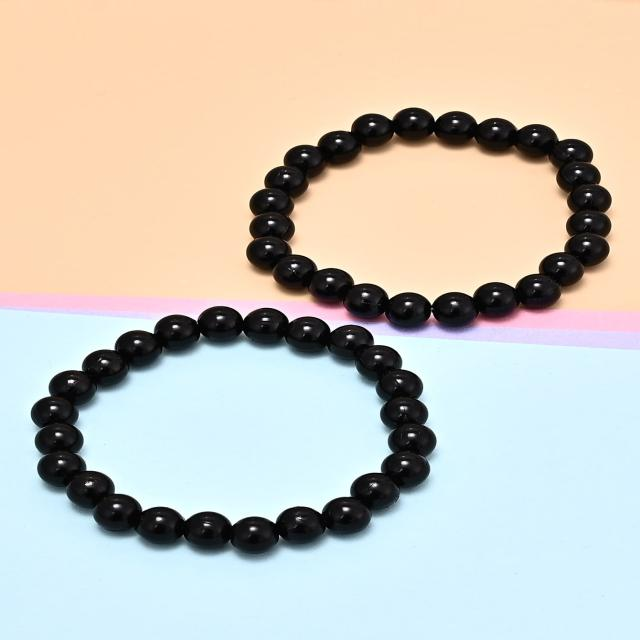bracelet: (0, 293, 489, 621), (201, 12, 640, 336)
